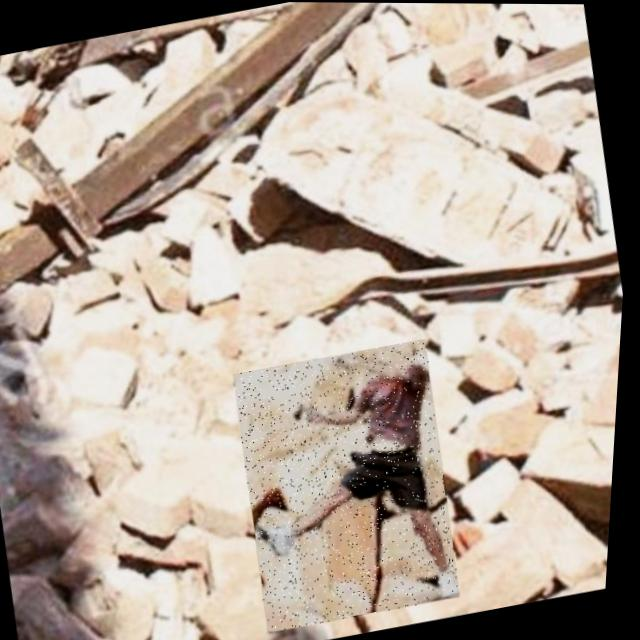Person in Rubble: (225, 337, 480, 633)
